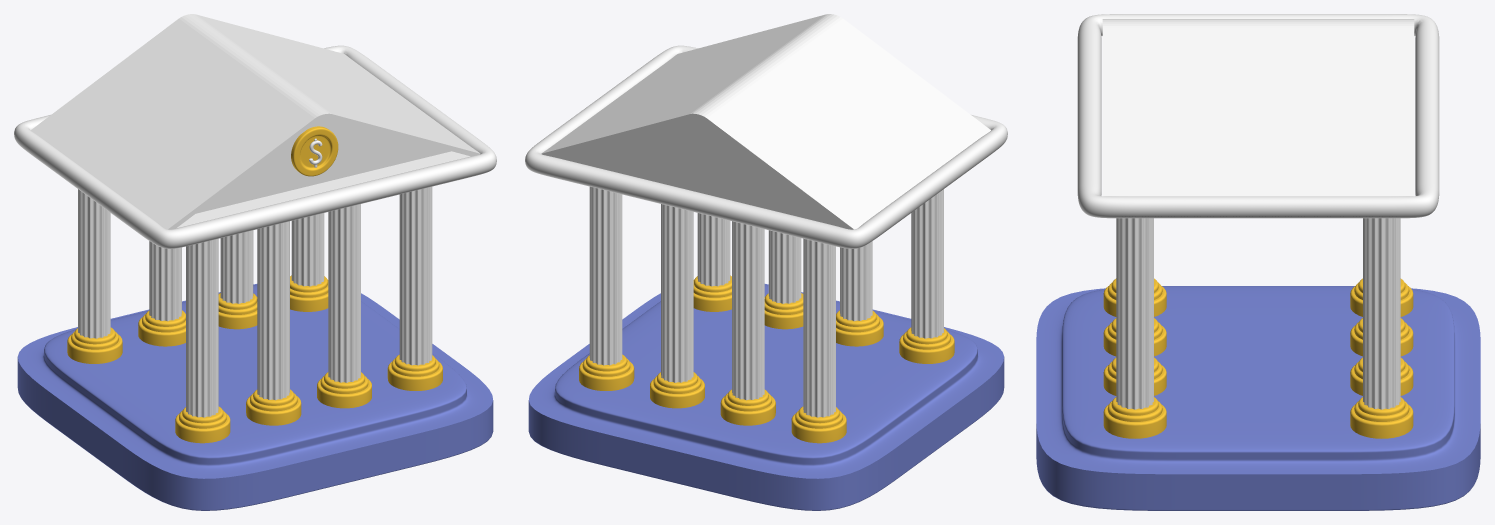
The model's file is bank.fbx.
The picture shows the model from 3 angles, left to right: view 1: azimuth 30°, elevation 25°; view 2: azimuth 150°, elevation 25°; view 3: azimuth 270°, elevation 25°; orthographic projection. The views are drawn at different scales.
Parts seen in each view (by area): view 1: Bank, COIN.001; view 2: Bank; view 3: Bank.
Boxes of the visible parts, bbox=[...] form: Bank: bbox=[14, 14, 496, 510]; COIN.001: bbox=[291, 126, 338, 176]; Bank: bbox=[525, 14, 1007, 510]; Bank: bbox=[1036, 14, 1480, 510].
Bounding box in the file's own units: 204 × 198 × 200.
